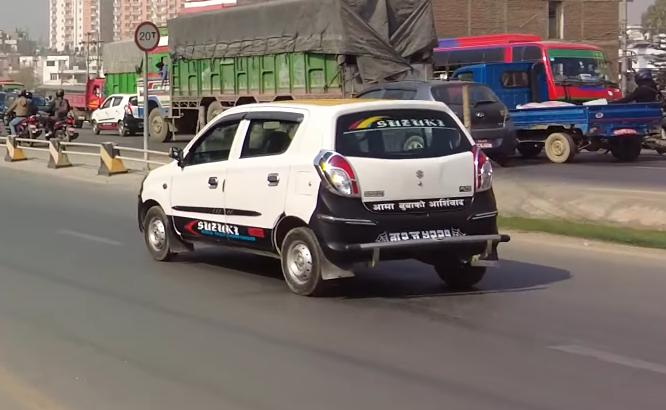bike: (0, 105, 42, 144)
taxi: (138, 90, 515, 298), (90, 93, 150, 136)
truck: (138, 3, 435, 140)
